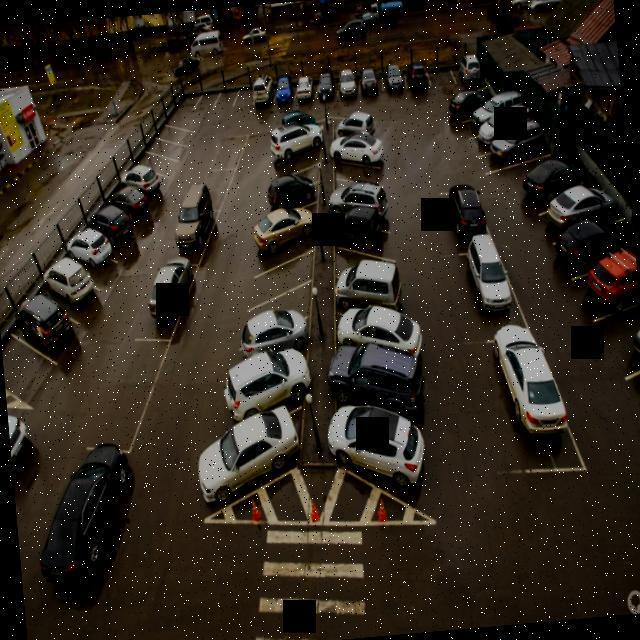car: (488, 322, 566, 471), (333, 405, 437, 508), (195, 406, 299, 508), (332, 336, 434, 410), (214, 348, 312, 418), (458, 232, 517, 330), (232, 309, 316, 366), (142, 261, 200, 337), (335, 310, 421, 360), (582, 241, 640, 315), (538, 181, 610, 240), (17, 293, 82, 358), (556, 216, 631, 270), (336, 272, 412, 321), (518, 154, 582, 211), (36, 256, 100, 312), (472, 100, 532, 155), (460, 89, 520, 143), (486, 116, 546, 170), (170, 204, 222, 264), (64, 228, 118, 282), (254, 230, 322, 271), (330, 185, 392, 228), (330, 215, 393, 255), (607, 293, 640, 367), (268, 122, 328, 160), (250, 205, 318, 238), (446, 186, 478, 250), (88, 207, 135, 249), (449, 82, 494, 121), (264, 180, 318, 210), (330, 134, 382, 164), (376, 58, 409, 105), (307, 62, 342, 106), (122, 170, 160, 210), (271, 110, 322, 136), (332, 117, 374, 148), (110, 190, 150, 222), (127, 160, 167, 192), (401, 58, 432, 99), (268, 67, 296, 112), (454, 48, 484, 90), (288, 70, 320, 108), (246, 74, 278, 110), (354, 62, 382, 101), (331, 68, 359, 104)
free: (90, 338, 170, 438), (0, 332, 57, 402), (239, 252, 315, 302), (242, 278, 316, 328), (506, 136, 564, 182), (332, 243, 402, 281), (148, 108, 200, 154), (142, 122, 190, 170), (266, 143, 323, 177), (331, 168, 388, 202), (328, 152, 390, 182), (268, 163, 318, 194), (184, 78, 222, 118), (168, 84, 203, 126), (134, 146, 180, 177), (208, 80, 242, 118), (230, 76, 260, 112), (427, 56, 457, 92)
